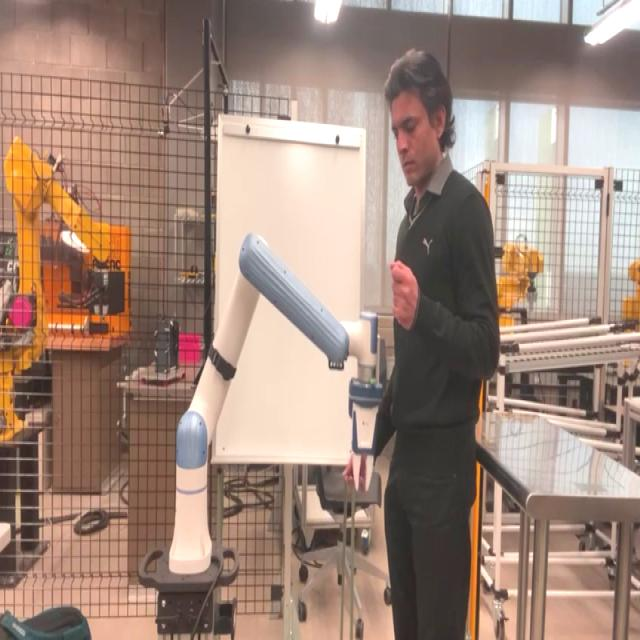robot: (136, 230, 388, 638)
